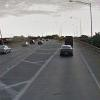Car: (54, 38, 75, 62)
